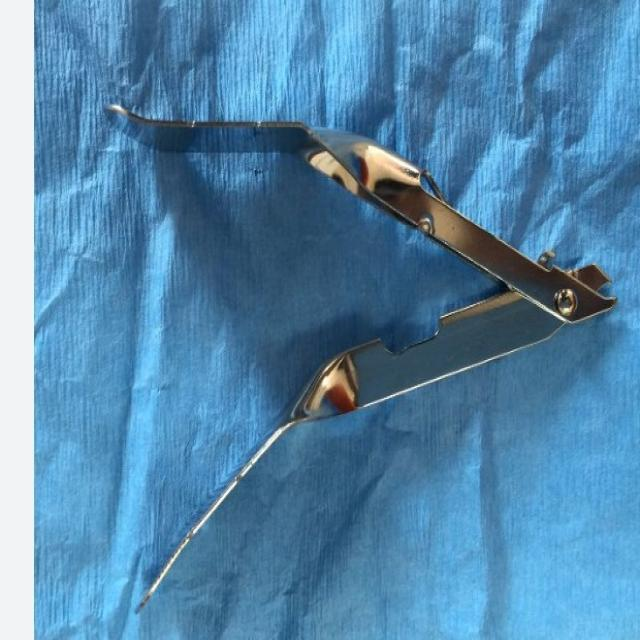Stapler Remover: (98, 86, 621, 617)
